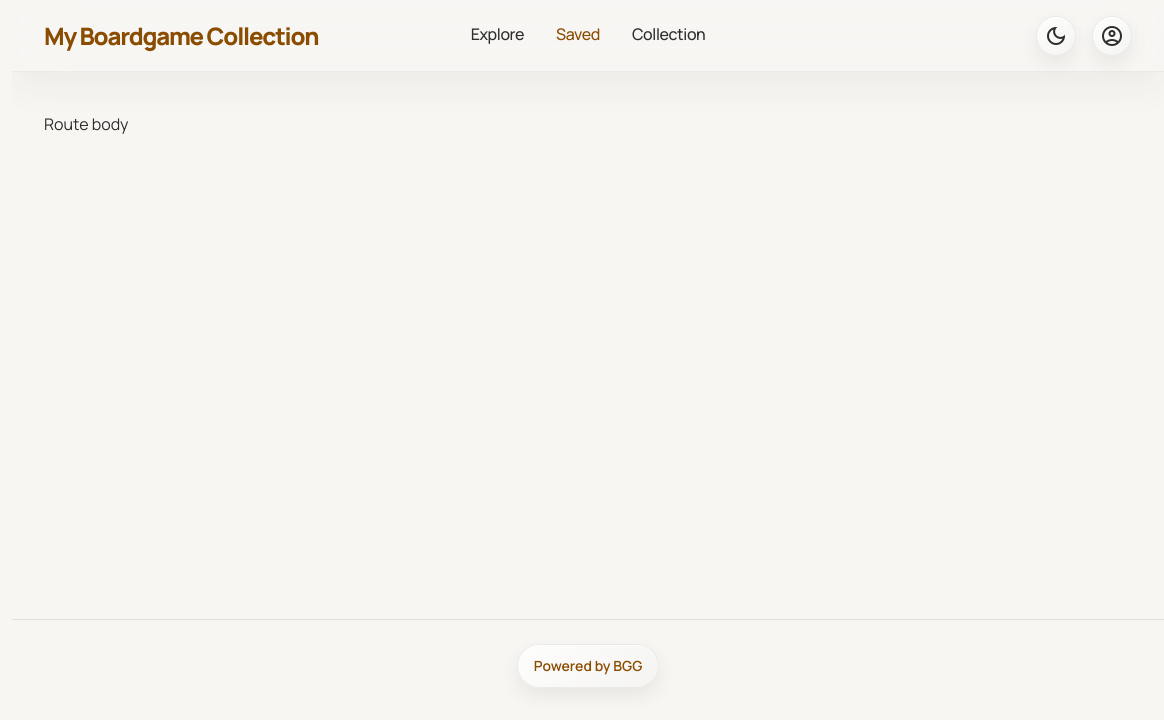
it: AppShell › routes signed-out account access through sign-in overlay state
The width and height of the screenshot is (1164, 720).
Step 1. Click the button named "open account" → (1112, 36), box [1092, 16, 1132, 56]
(page scrolled)
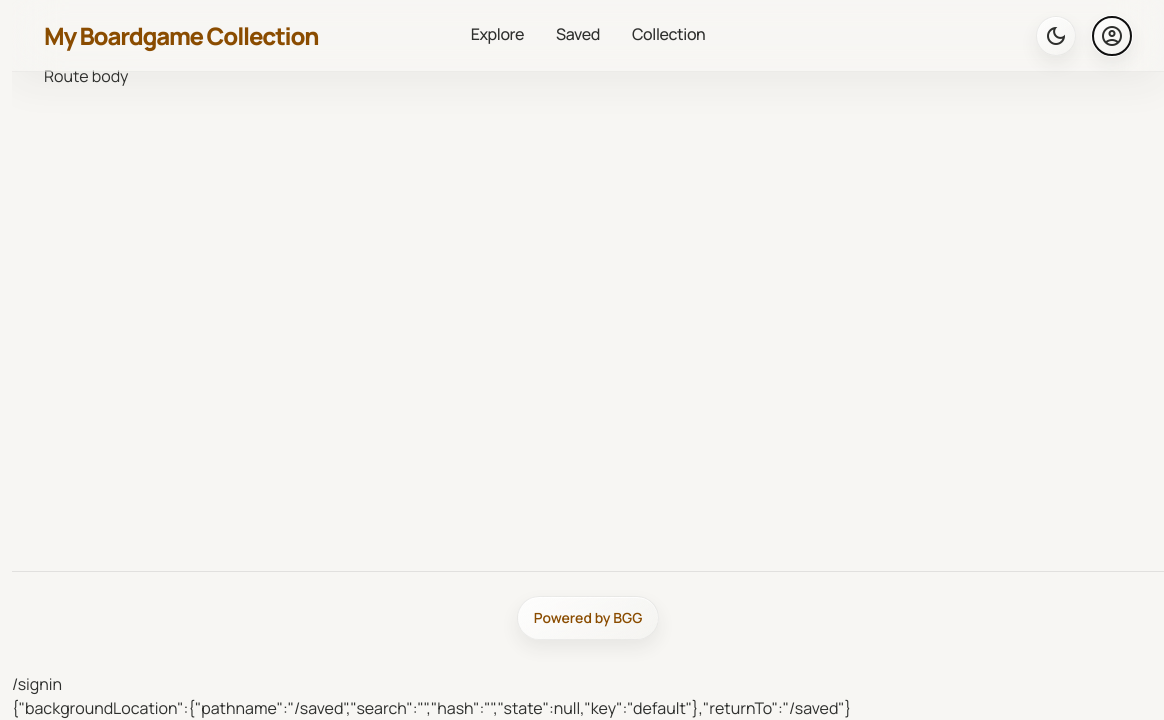
Now the text with test id "location-pathname" reads "/signin", box [12, 673, 62, 695]
Now the text with test id "location-state" shows "\"pathname\":\"/saved\"", box [12, 697, 851, 719]
